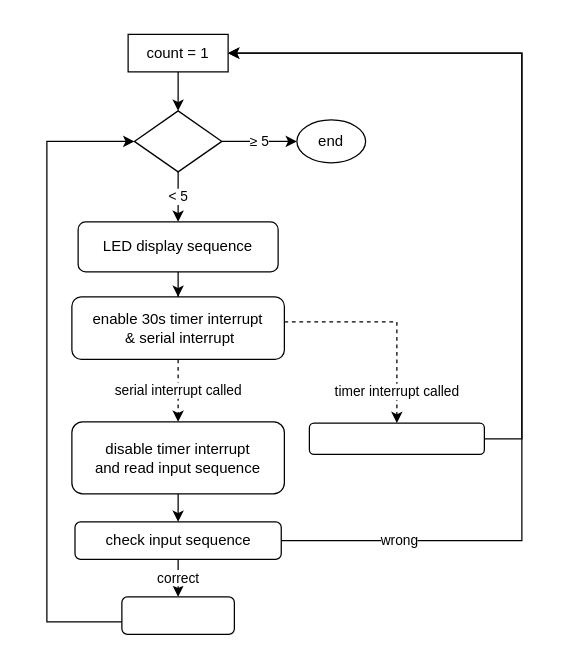
Some shapes in this 580 by 668 pixel diagram are drawn without their labels. The shapes that lost their labels are listed below. From the top down, each one's centre as x and y in pixels, then its label:
[177,141]: count
[396,438]: disable serial interrupt
[177,615]: count ++
